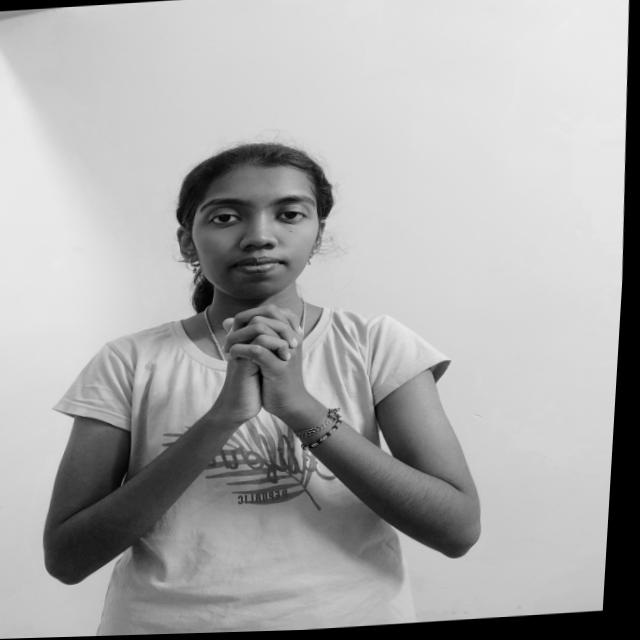Sorry: (207, 297, 327, 435)
